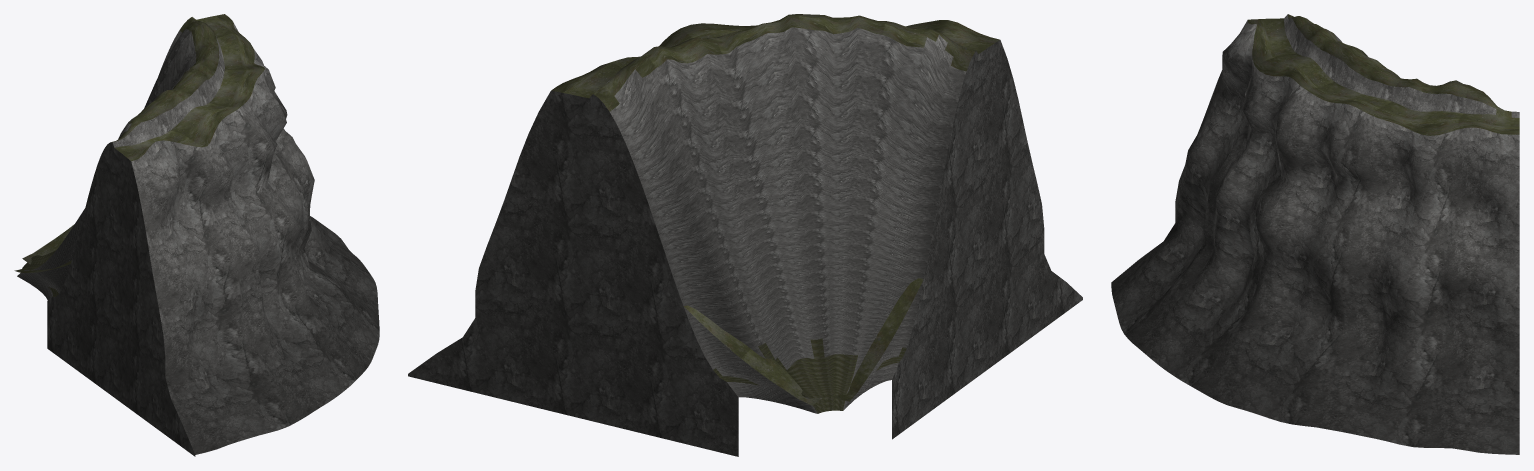
File: seacliff_outer_h5_v5_summer.glb
The picture shows the model from 3 angles, left to right: view 1: azimuth 30°, elevation 25°; view 2: azimuth 150°, elevation 25°; view 3: azimuth 270°, elevation 25°; orthographic projection. The views are drawn at different scales.
Parts seen in each view (by area): view 1: seacliff_outer_h5; view 2: seacliff_outer_h5; view 3: seacliff_outer_h5.
Boxes of the visible parts, x1,y1,x2,y2 form: seacliff_outer_h5: [14, 14, 379, 456]; seacliff_outer_h5: [408, 14, 1082, 456]; seacliff_outer_h5: [1111, 14, 1519, 454].
Size of the model in its own units: 9.01 by 7.21 by 9.01.
Materials: 2 (2 with a texture image).
